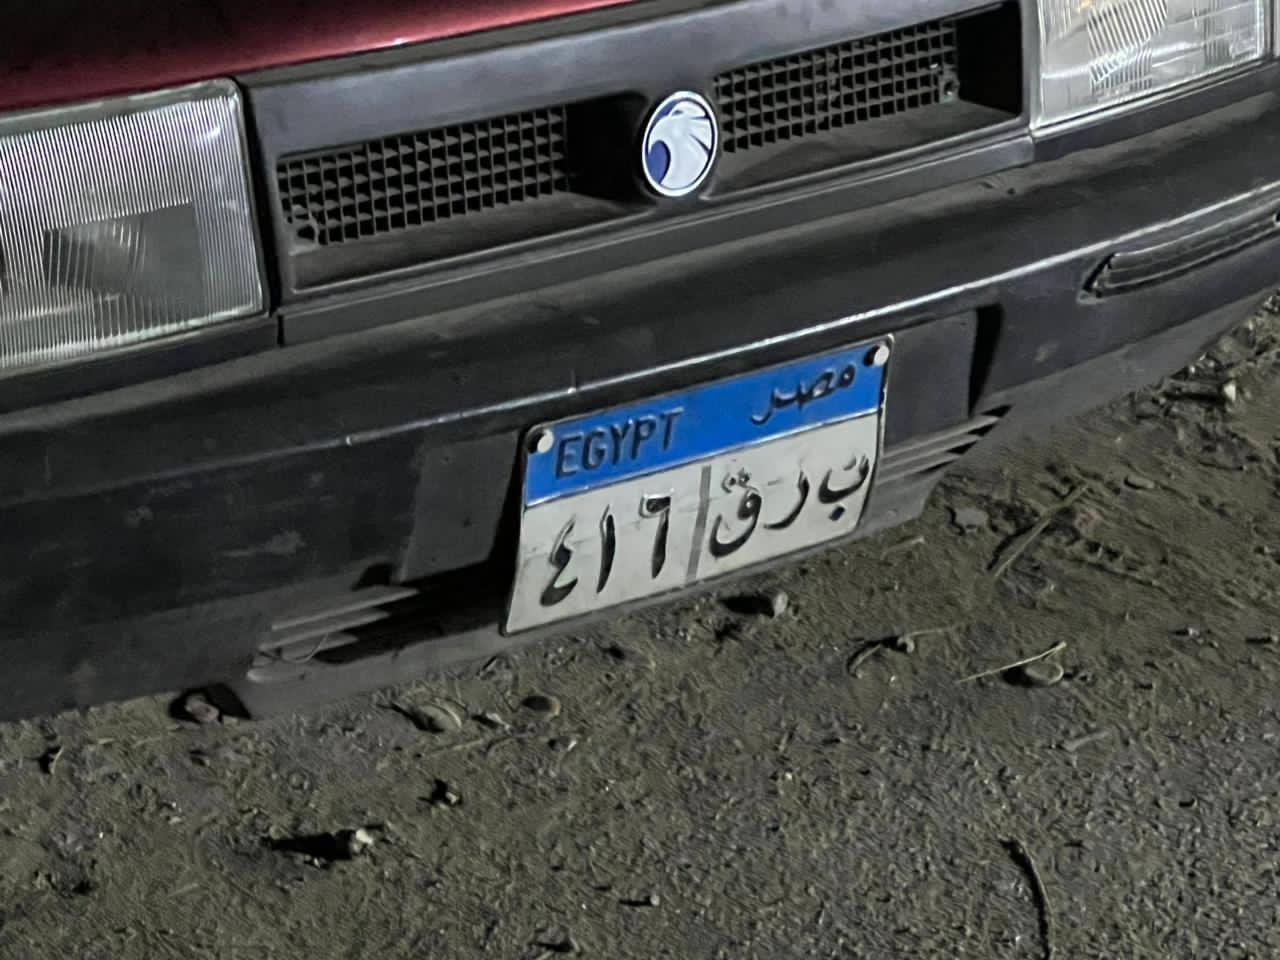1: (587, 510, 628, 597)
4: (542, 512, 580, 606)
6: (630, 484, 675, 578)
License Plate: (510, 318, 894, 628)
Q: (712, 466, 762, 556)
R: (760, 466, 814, 532)
baa: (814, 455, 872, 518)
